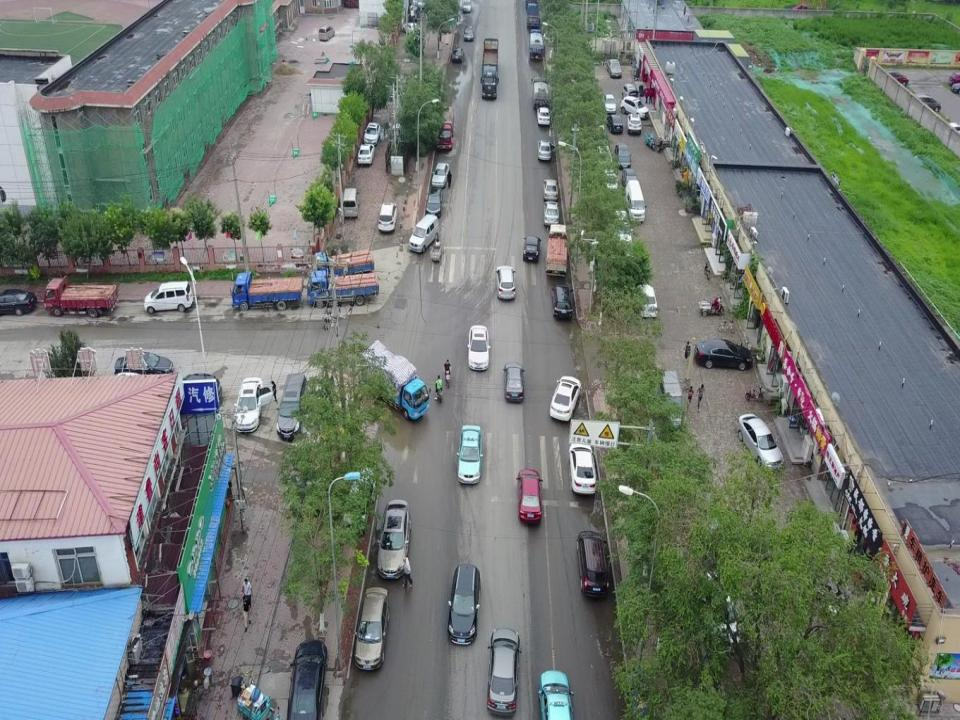car: (287, 640, 330, 720), (486, 628, 522, 716), (735, 413, 784, 473), (354, 586, 389, 670), (448, 562, 480, 646), (377, 499, 410, 579), (575, 529, 609, 599), (277, 374, 309, 440), (233, 376, 270, 433), (345, 476, 376, 536), (695, 340, 753, 372), (538, 669, 574, 720), (143, 282, 193, 313), (114, 351, 174, 376), (457, 425, 482, 484), (516, 470, 543, 524), (569, 442, 596, 496), (550, 376, 581, 422), (467, 326, 490, 370), (0, 287, 37, 313), (503, 362, 526, 402), (634, 283, 658, 318), (551, 284, 574, 318), (496, 266, 516, 300), (620, 96, 648, 120), (614, 210, 632, 245), (378, 202, 396, 231), (523, 236, 541, 264), (426, 188, 442, 216), (431, 163, 449, 186), (357, 143, 375, 166), (588, 111, 605, 135), (364, 122, 381, 145), (616, 143, 631, 169), (544, 202, 560, 226), (542, 178, 559, 200), (602, 169, 618, 191), (536, 139, 552, 161), (402, 556, 413, 588), (606, 115, 624, 133), (622, 168, 638, 188), (597, 146, 613, 166), (606, 59, 622, 78), (402, 21, 421, 36), (627, 114, 641, 134), (622, 84, 639, 100), (536, 107, 550, 126), (604, 95, 616, 113), (452, 47, 464, 63), (464, 26, 474, 42), (462, 0, 472, 12)
truck: (362, 340, 431, 420), (43, 277, 119, 317), (229, 273, 305, 311), (306, 270, 380, 308), (309, 250, 375, 282), (545, 224, 568, 277), (481, 38, 499, 100), (436, 106, 454, 149), (531, 76, 549, 109), (530, 30, 544, 60), (525, 0, 540, 26)
van: (656, 372, 682, 431), (409, 214, 438, 253), (624, 180, 647, 222), (343, 188, 359, 219), (318, 24, 334, 40)
